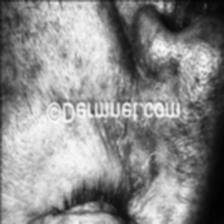Non-Cancerous Skin Condition: (72, 48, 214, 166)
